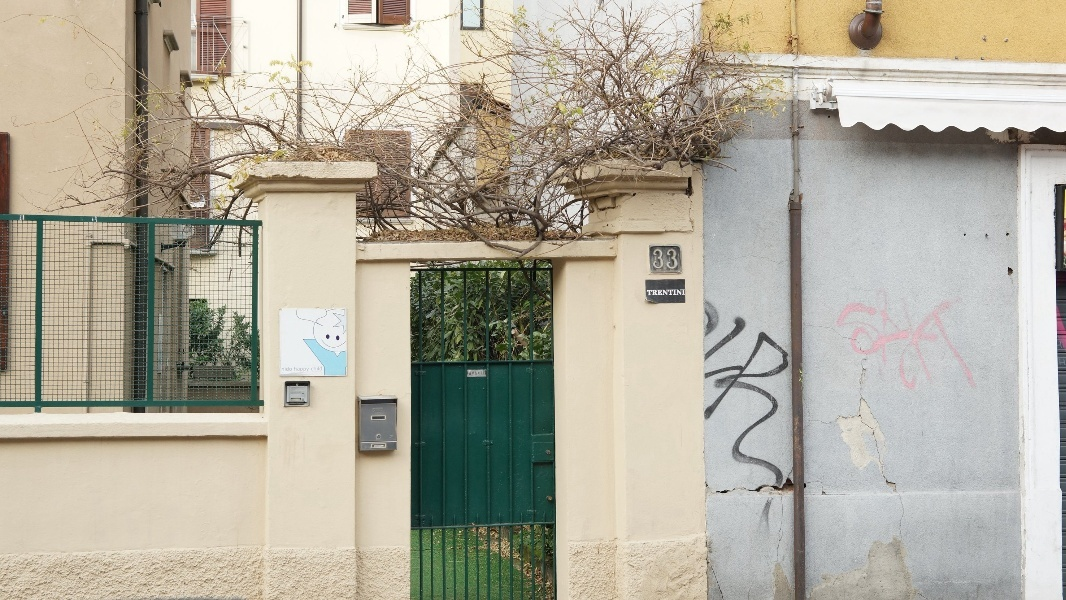text: (721, 286, 736, 502), (737, 286, 752, 502), (753, 286, 768, 502), (769, 286, 784, 502), (785, 286, 800, 502), (801, 286, 816, 502), (817, 286, 832, 502), (710, 286, 720, 502), (833, 286, 836, 502), (657, 249, 672, 270), (673, 249, 679, 270), (657, 290, 672, 296), (673, 290, 686, 296), (653, 249, 656, 270), (647, 290, 656, 296), (294, 367, 304, 372), (470, 372, 480, 376), (311, 367, 320, 371), (282, 367, 288, 372), (305, 367, 310, 372), (289, 367, 292, 372), (481, 372, 484, 376), (321, 367, 323, 371)
